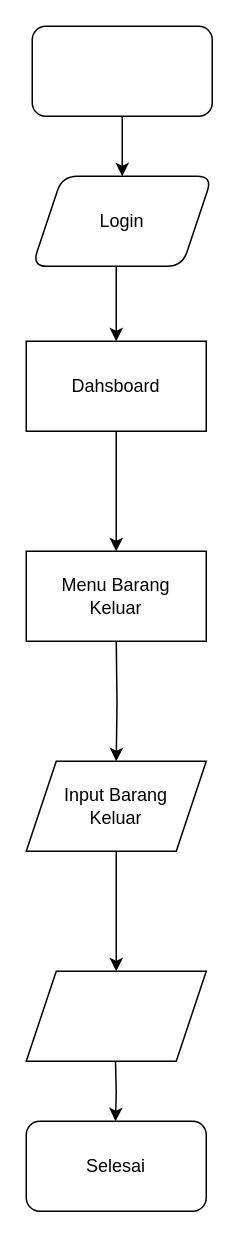
The diagram is 239 pixels wide and 1238 high, and some of its shapes have lost their labels. The centre of each missing label's shape, as x and y in pixels:
"Cetak Surat Keluar" goes at pixel 115 1015.
"Mulai" goes at pixel 121 70.
